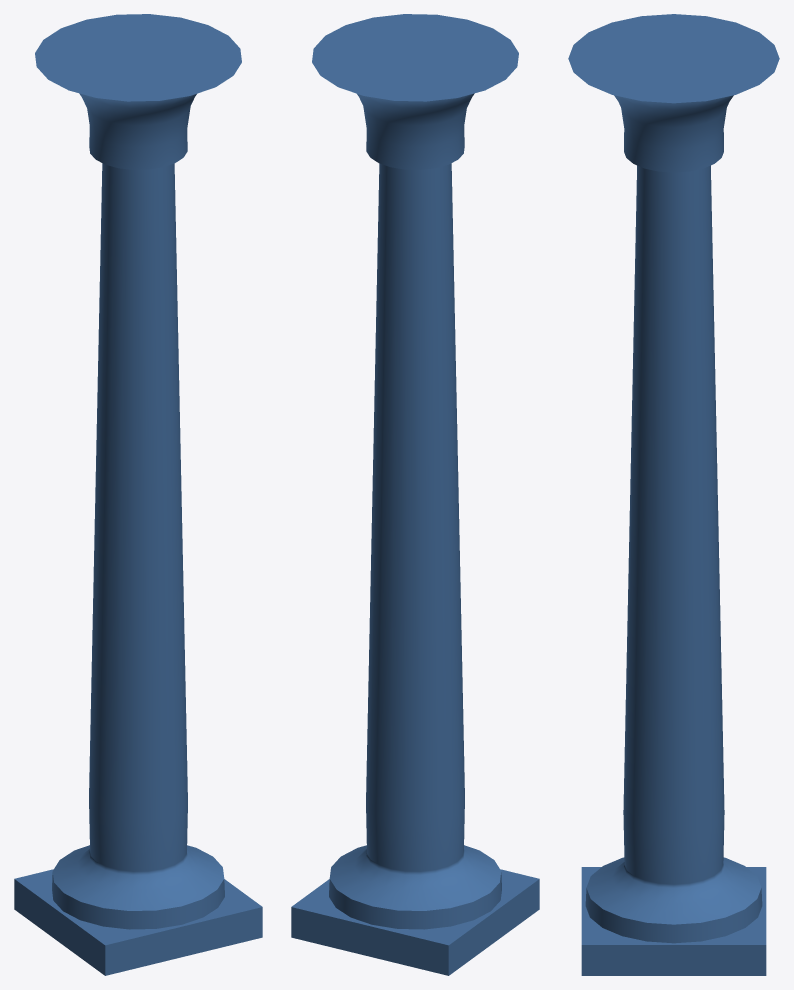
File: Collumn_Low.fbx
3 renders of one model, left to right at view 1: azimuth 30°, elevation 25°; view 2: azimuth 150°, elevation 25°; view 3: azimuth 270°, elevation 25°, orthographic.
Visible parts, largest first — view 1: Collumn_Low, Base_Low; view 2: Collumn_Low, Base_Low; view 3: Collumn_Low, Base_Low.
Part boxes in pixels (box(x1,y1,x2,y2)): Collumn_Low: box(35, 14, 241, 929); Base_Low: box(14, 869, 262, 975); Collumn_Low: box(312, 14, 518, 929); Base_Low: box(291, 869, 539, 975); Collumn_Low: box(568, 14, 779, 943); Base_Low: box(581, 867, 766, 975).
Size of the model in its own units: 4.48 by 20.55 by 4.48.
